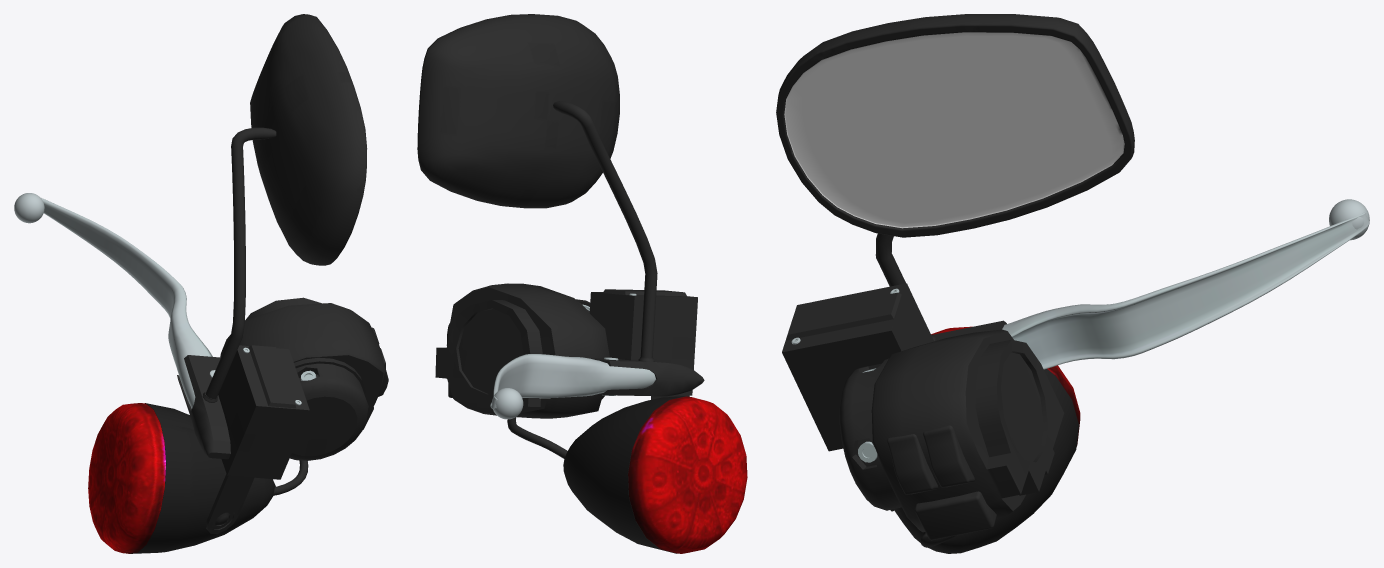
File: specchio_dx.glb
3 views of the same model, side by side, from view 1: azimuth 30°, elevation 25°; view 2: azimuth 150°, elevation 25°; view 3: azimuth 270°, elevation 25° (orthographic). The views are drawn at different scales.
Visible parts, largest first — view 1: ricambio; view 2: ricambio; view 3: ricambio.
Part boxes in pixels (x1,y1,x2,y2): ricambio: [14, 14, 388, 553]; ricambio: [417, 14, 747, 553]; ricambio: [776, 14, 1369, 553].
Size of the model in its own units: 0.1452 by 0.2372 by 0.2049.
Materials: 5 (5 with a texture image).
